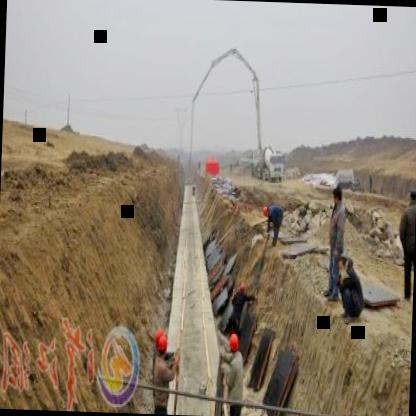head: (330, 181, 346, 211), (335, 254, 351, 277)
helmet: (157, 332, 169, 359), (228, 329, 239, 358)
